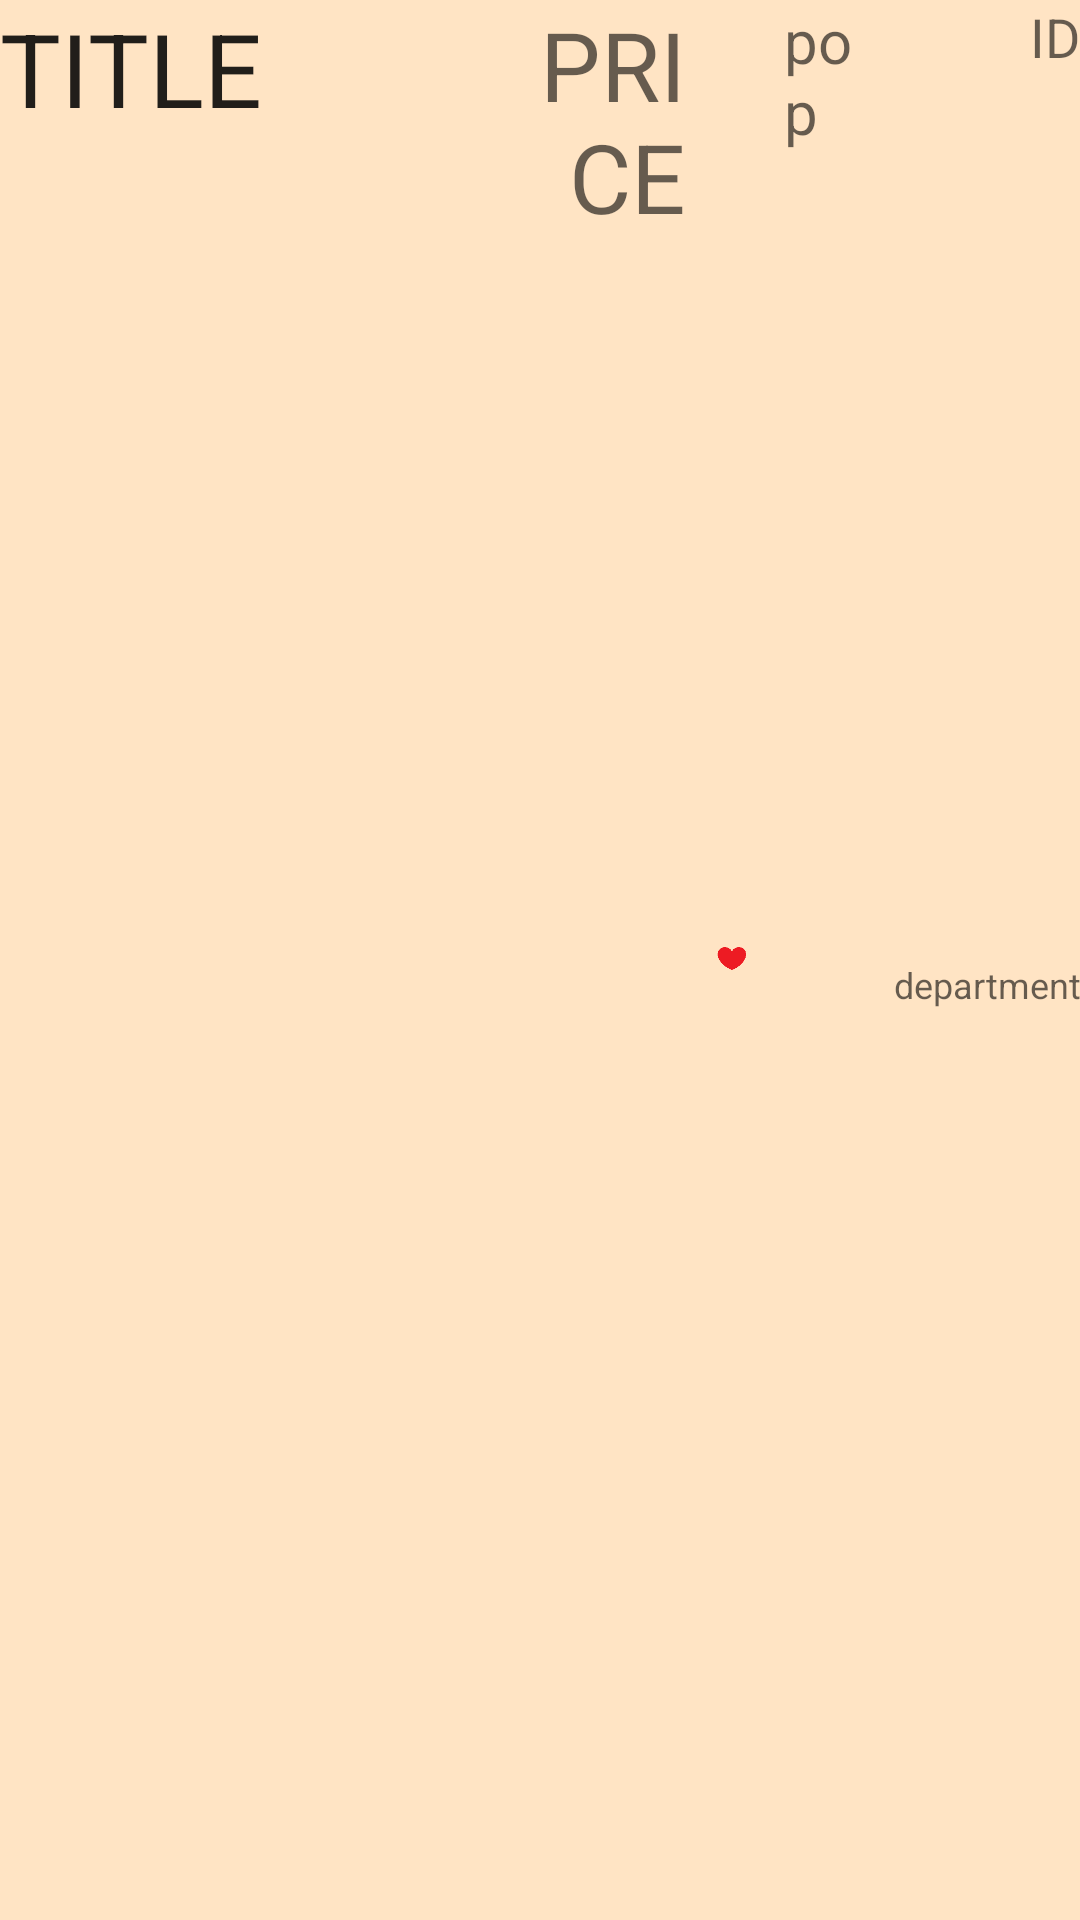

Named icons in this screenshot (1080×1920) and their bounding boxes, (x1=x1, y1=y1, x2=x2, y2=y2):
heart: (x1=717, y1=947, x2=746, y2=970)
